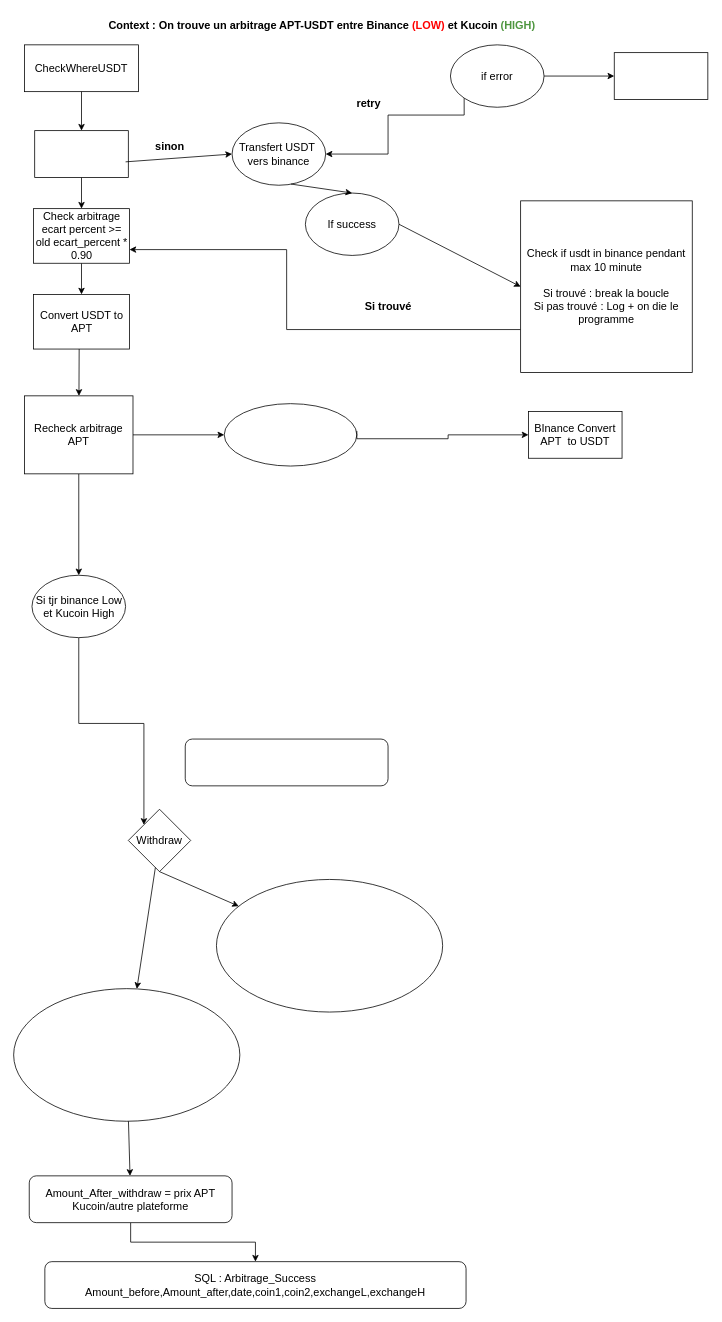
Some shapes in this 722 by 1322 pixel diagram are drawn without their labels. The centre of each missing label's shape, as x and y in pixels:
"Amount_before_withdraw = prix APT binance" belongs at pixel 286 762.
"If already retry STOP arbitrage + log" belongs at pixel 660 75.
"If error on retry if already retry stop + log + convert APT to USDT in binance" belongs at pixel 329 945.
"If success : check in Kucoin si APT withdraw finish" belongs at pixel 126 1054.
"If USDT in Binance(low)" belongs at pixel 81 153.
"Si arbitrage < old_ecart_percent *0.90" belongs at pixel 290 434.
